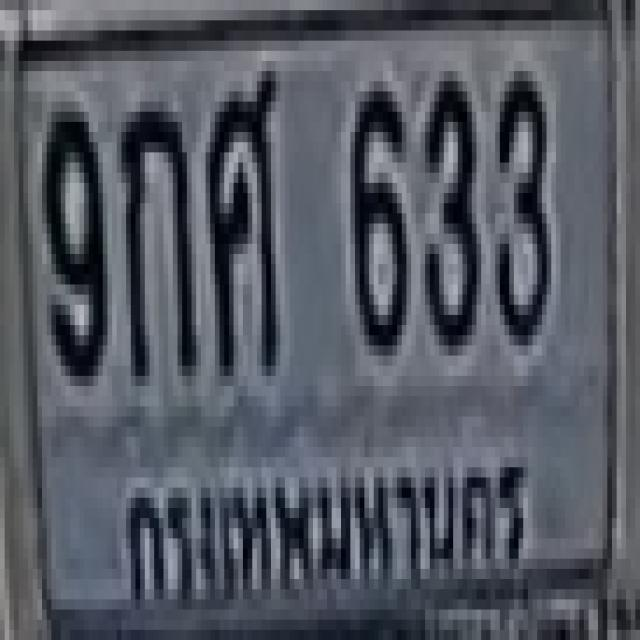3: (421, 71, 476, 346), (493, 61, 544, 335)
6: (348, 82, 404, 346)
9: (42, 101, 103, 376)
A01: (117, 91, 191, 376)
A38: (206, 66, 276, 371)
BKK: (117, 437, 532, 612)
